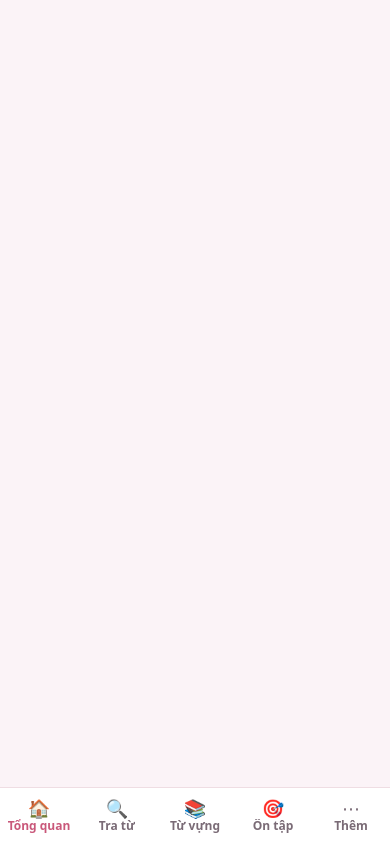
Test: MobileTabBar › closes the sheet on Escape
Click the button "⋯ Thêm" at (351, 816), box 312,788 -> 389,843
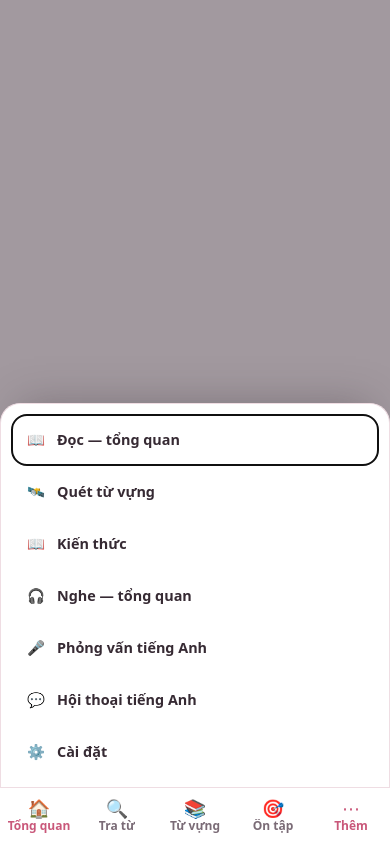
Press Escape
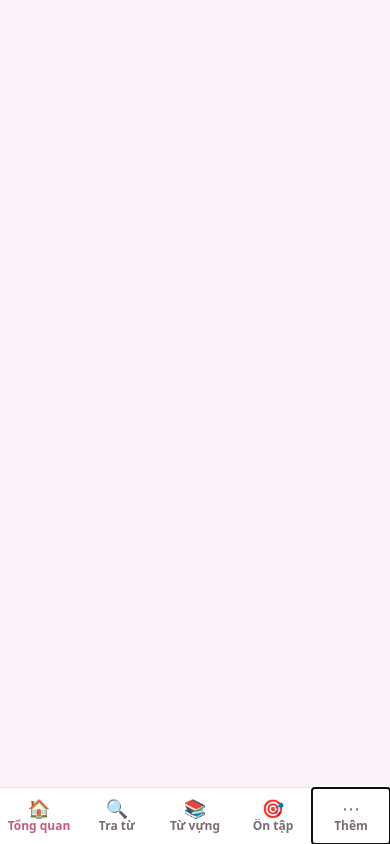
Check: the dialog is gone
